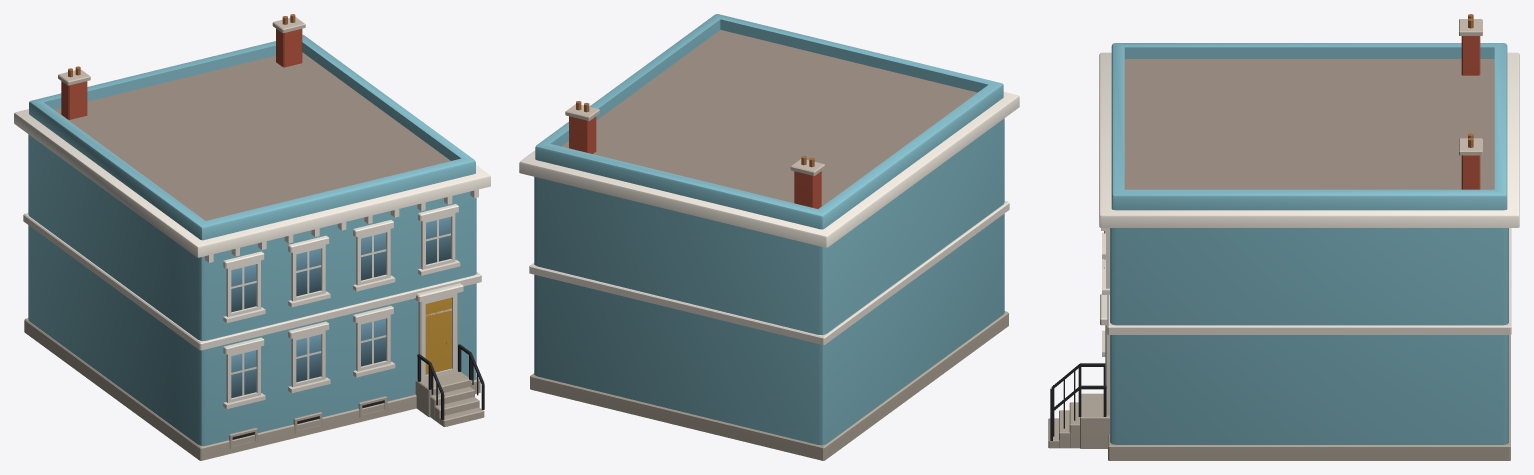
File: beacon_ne2.glb
3 views of the same model, side by side, from view 1: azimuth 30°, elevation 25°; view 2: azimuth 150°, elevation 25°; view 3: azimuth 270°, elevation 25° (orthographic). The views are drawn at different scales.
Parts seen in each view (by area): view 1: beacon_ne2; view 2: beacon_ne2; view 3: beacon_ne2.
Boxes of the visible parts, left/top/right/bottom form: beacon_ne2: left=14, top=14, right=490, bottom=460; beacon_ne2: left=519, top=14, right=1019, bottom=460; beacon_ne2: left=1048, top=14, right=1519, bottom=460.
Size of the model in its own units: 11.64 by 10.14 by 14.18.
1 material, 1 textured.
